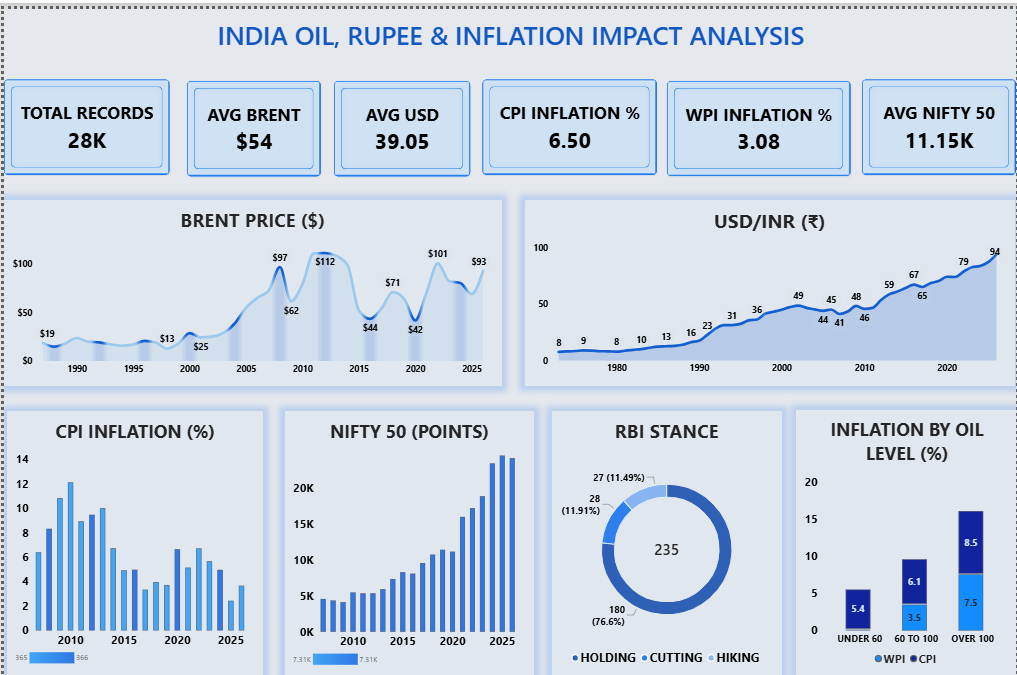

The dashboard page shown, as its layout file describes it:
{"tool":"powerbi","page":{"name":"Page 1","canvas":[1896,1250],"ordinal":0},"visuals":[{"type":"cardVisual","fields":{"Data":["Avg(crude_oil_data.brent_oil_usd)"]},"box":[343.9,134.1,250.5,178.9],"z":0},{"type":"cardVisual","fields":{"Data":["Avg(currency_data.usd_inr)"]},"box":[617.1,134.1,255.3,178.9],"z":1000},{"type":"cardVisual","fields":{"Data":["Avg(inflation_data.inflation_rate)"]},"box":[897.6,131.7,326.9,178.9],"z":2000},{"type":"cardVisual","fields":{"Data":["Avg(wholesale_price_data.wpi_inflation_rate)"]},"box":[1243.9,134.1,343.9,178],"z":3000},{"type":"cardVisual","fields":{"Data":["Avg(stock_market_data.nifty50)"]},"box":[1607.3,131.7,288.7,178.9],"z":4000},{"type":"cardVisual","fields":{"Data":["crude_oil_data.TOTAL RECORDS"]},"box":[0,132,310.2,178.9],"z":5000},{"type":"lineChart","title":"BRENT PRICE ($)","fields":{"Category":["crude_oil_data.date.Variation.Date Hierarchy.Year"],"Y":["Avg(crude_oil_data.brent_oil_usd)"]},"box":[0,356.1,932.7,349.8],"z":6000},{"type":"lineChart","title":"USD/INR (₹)","fields":{"Category":["currency_data.date.Variation.Date Hierarchy.Year"],"Y":["Avg(currency_data.usd_inr)"]},"box":[975.6,356.1,919.5,348.8],"z":7000},{"type":"columnChart","title":"CPI INFLATION (%)","fields":{"Category":["inflation_data.month.Variation.Date Hierarchy.Year"],"Y":["Avg(inflation_data.inflation_rate)"]},"box":[4.9,753.7,480.5,495.1],"z":8000},{"type":"columnChart","title":"NIFTY 50 (POINTS)","fields":{"Category":["stock_market_data.date.Variation.Date Hierarchy.Year"],"Y":["Avg(stock_market_data.nifty50)"]},"box":[524.4,753.7,468.3,497.6],"z":9000},{"type":"textbox","box":[2,-2,1894,108],"z":10000},{"type":"donutChart","title":"RBI STANCE","fields":{"Category":["RBI_STANCE.STANCE"],"Y":["Sum(RBI_STANCE.MONTHS)"]},"box":[1026.8,753.7,431.7,497.6],"z":11000},{"type":"columnChart","title":"INFLATION BY OIL LEVEL (%)","fields":{"Category":["OIL_LEVEL.OIL_LEVEL"],"Y":["Sum(OIL_LEVEL.WPI_INFLATION)","Sum(OIL_LEVEL.CPI_INFLATION)"]},"box":[1484.3,750.6,416.1,500.4],"z":11001}]}

Visuals, with their boxes in screenshot pixels (x1, y1, x2, y2), scaled from the page's 1896x1250 canvas onto the 1017x675 screenshot:
cardVisual - Avg(crude_oil_data.brent_oil_usd): {"left": 184, "top": 72, "right": 319, "bottom": 169}
cardVisual - Avg(currency_data.usd_inr): {"left": 331, "top": 72, "right": 468, "bottom": 169}
cardVisual - Avg(inflation_data.inflation_rate): {"left": 481, "top": 71, "right": 657, "bottom": 168}
cardVisual - Avg(wholesale_price_data.wpi_inflation_rate): {"left": 667, "top": 72, "right": 852, "bottom": 169}
cardVisual - Avg(stock_market_data.nifty50): {"left": 862, "top": 71, "right": 1016, "bottom": 168}
cardVisual - crude_oil_data.TOTAL RECORDS: {"left": 0, "top": 71, "right": 166, "bottom": 168}
"BRENT PRICE ($)" lineChart: {"left": 0, "top": 192, "right": 500, "bottom": 381}
"USD/INR (₹)" lineChart: {"left": 523, "top": 192, "right": 1016, "bottom": 381}
"CPI INFLATION (%)" columnChart: {"left": 3, "top": 407, "right": 260, "bottom": 674}
"NIFTY 50 (POINTS)" columnChart: {"left": 281, "top": 407, "right": 532, "bottom": 674}
textbox: {"left": 1, "top": 0, "right": 1016, "bottom": 57}
"RBI STANCE" donutChart: {"left": 551, "top": 407, "right": 782, "bottom": 674}
"INFLATION BY OIL LEVEL (%)" columnChart: {"left": 796, "top": 405, "right": 1016, "bottom": 674}
